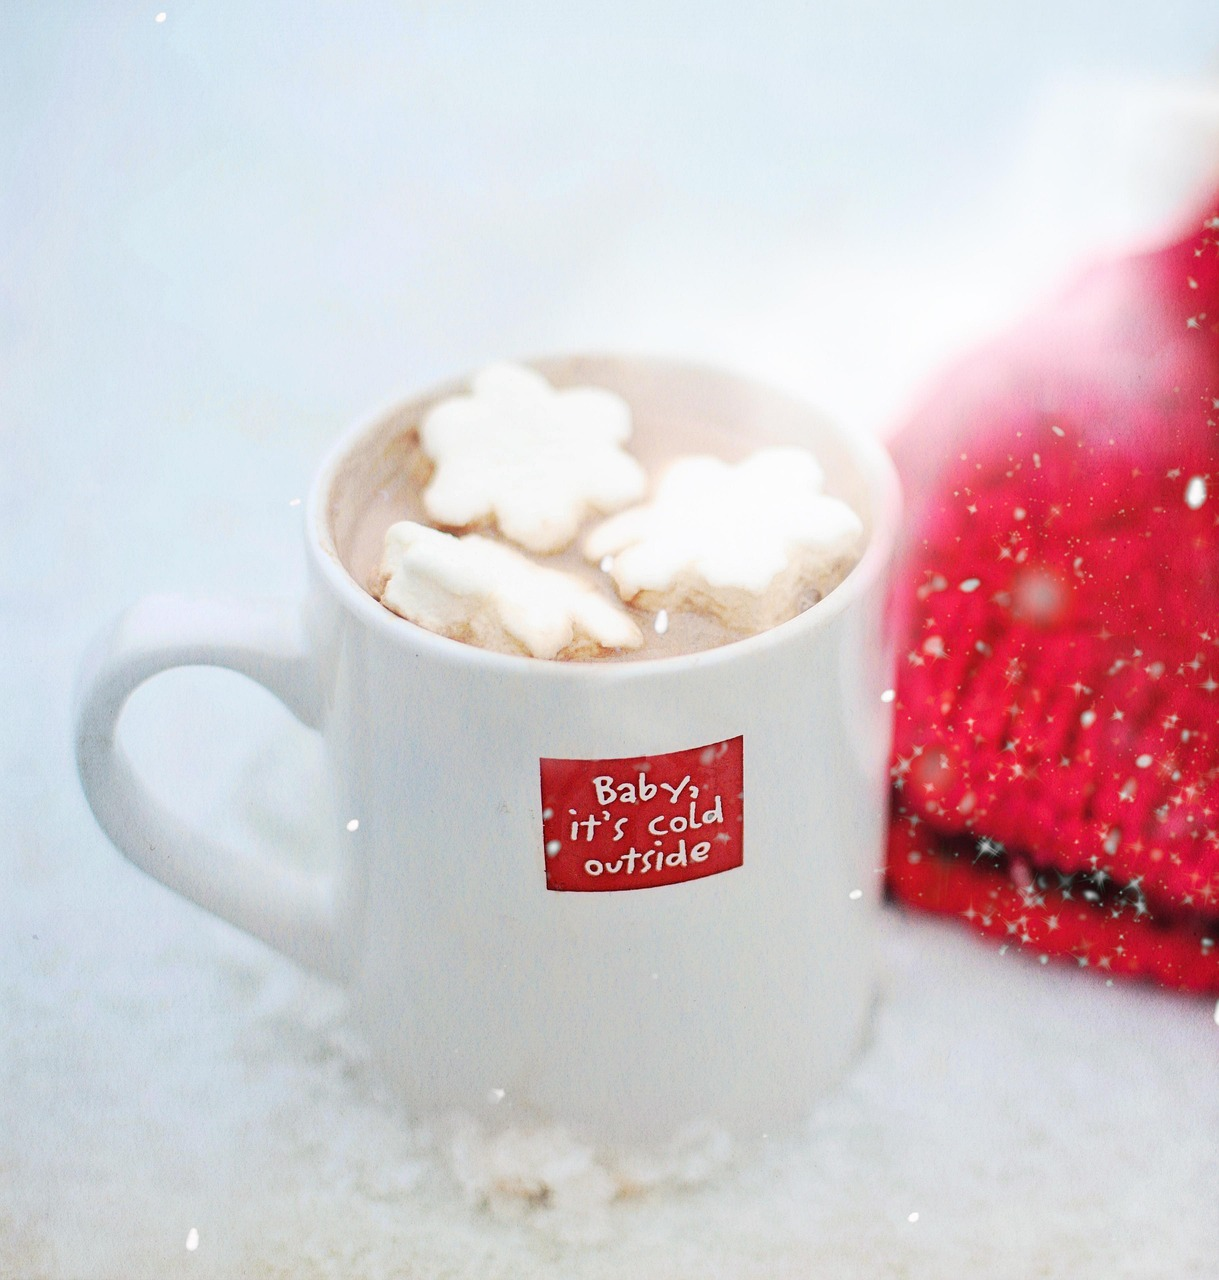mug: (35, 339, 928, 1234)
